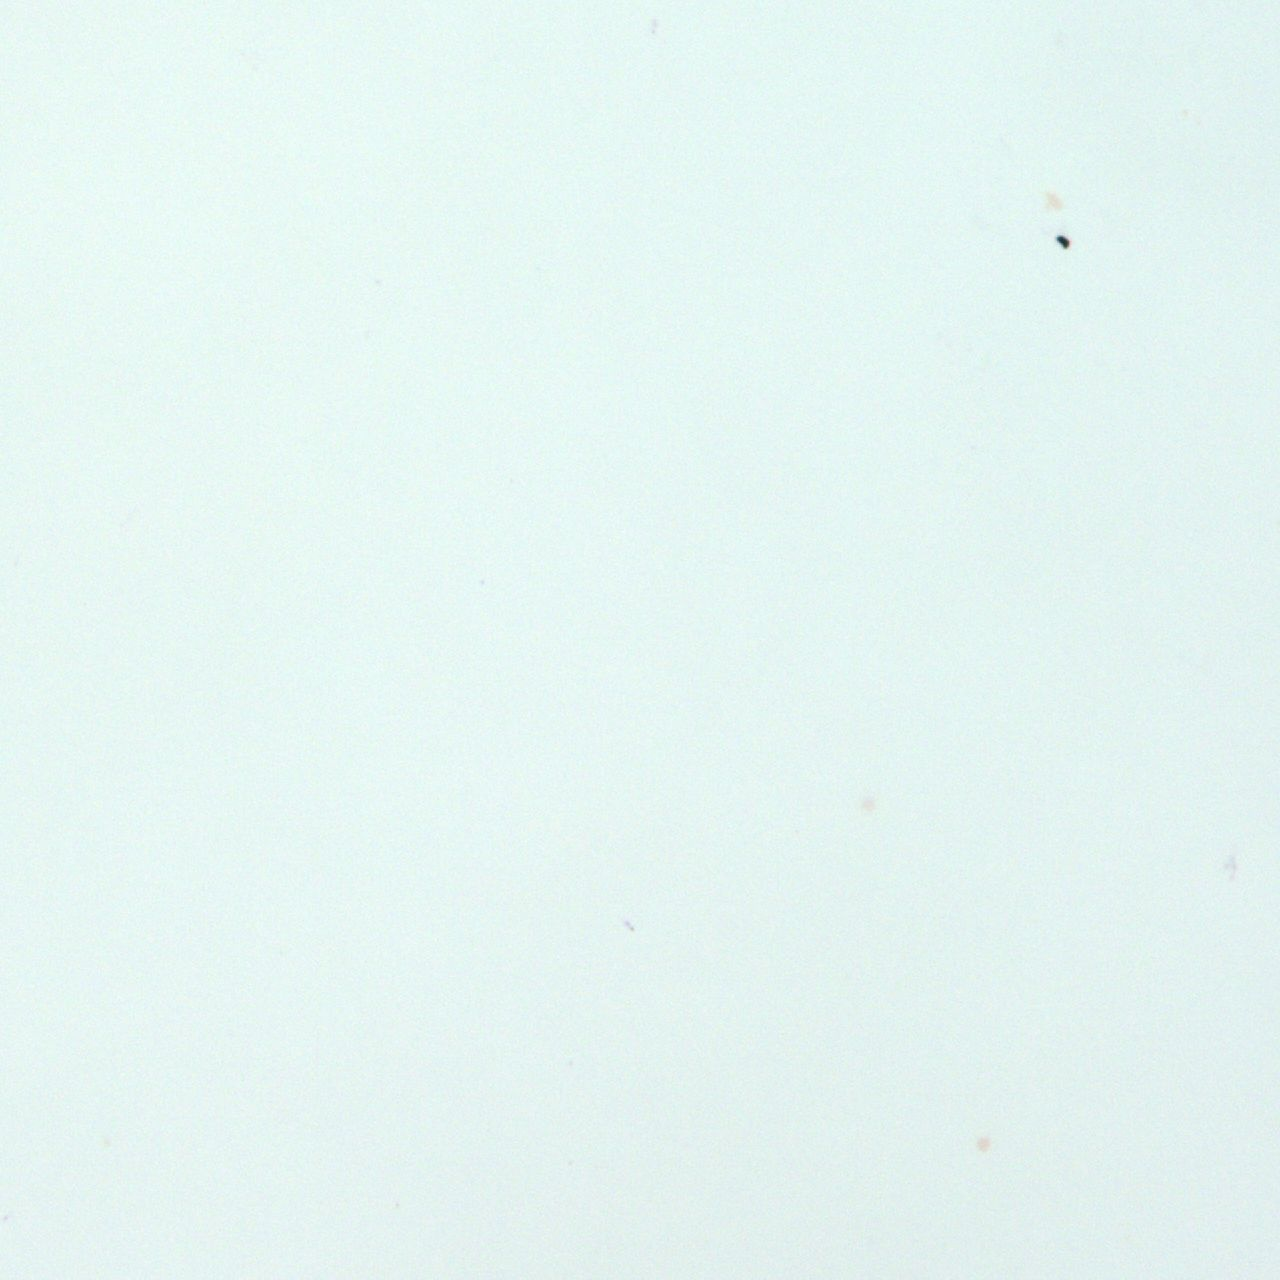dust: (1054, 232, 1071, 250)
